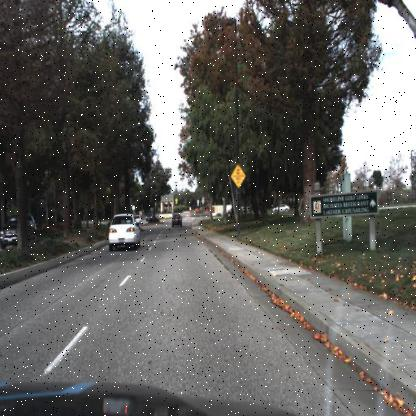car: (0, 214, 38, 249), (108, 210, 141, 247), (170, 210, 184, 226)
